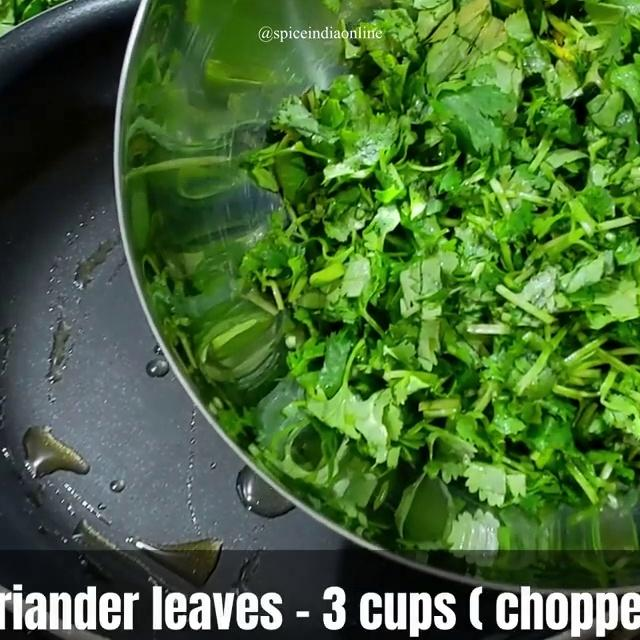cilantro: (275, 0, 640, 452)
